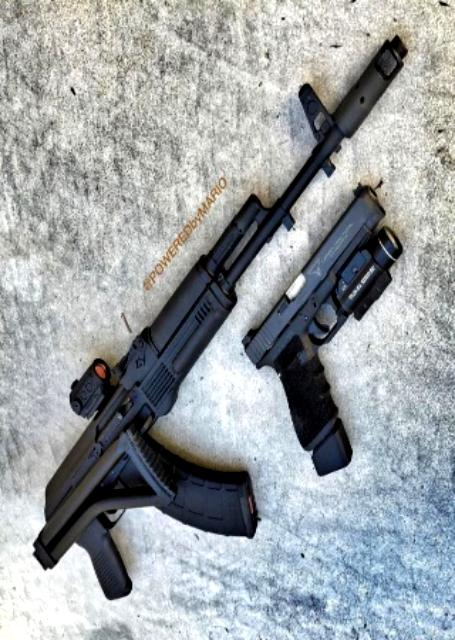rifle: (33, 25, 424, 603)
